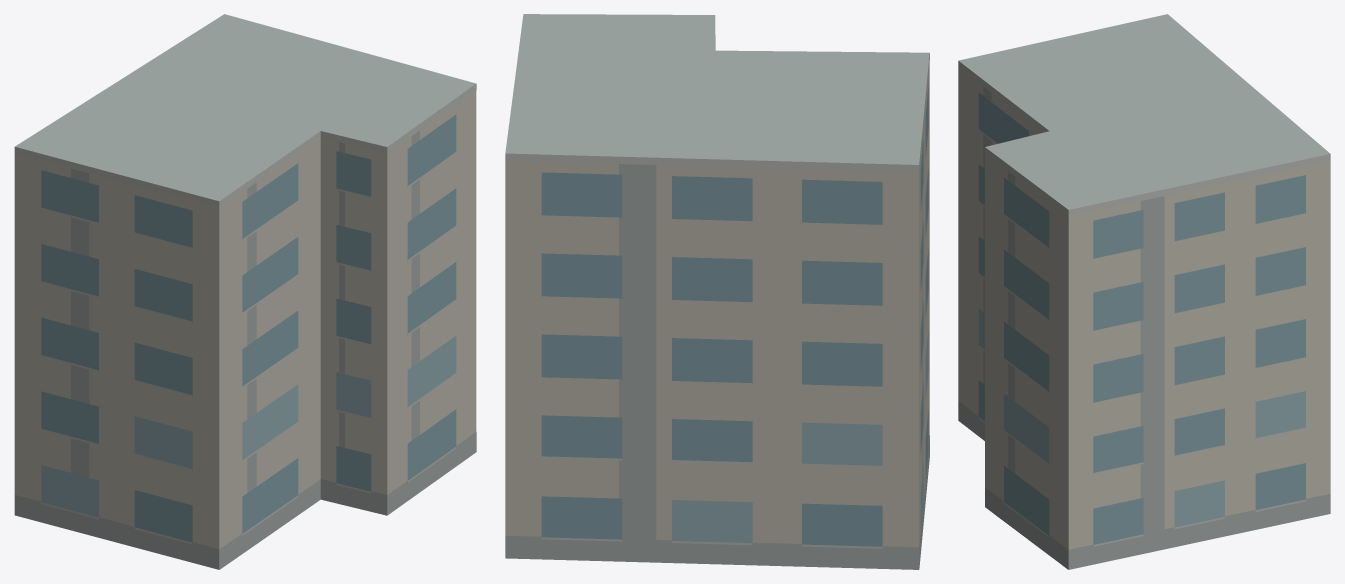
The model's file is survey-upis-32943116.glb.
3 renders of one model, left to right at view 1: azimuth 30°, elevation 25°; view 2: azimuth 150°, elevation 25°; view 3: azimuth 270°, elevation 25°, orthographic. The views are drawn at different scales.
Visible parts, largest first — view 1: survey-upis-32943116.tmp; view 2: survey-upis-32943116.tmp; view 3: survey-upis-32943116.tmp.
Boxes of the visible parts, bbox=[...] form: survey-upis-32943116.tmp: bbox=[14, 14, 476, 569]; survey-upis-32943116.tmp: bbox=[505, 14, 929, 569]; survey-upis-32943116.tmp: bbox=[958, 14, 1330, 569].
Size of the model in its own units: 15.53 by 13.3 by 12.48.
